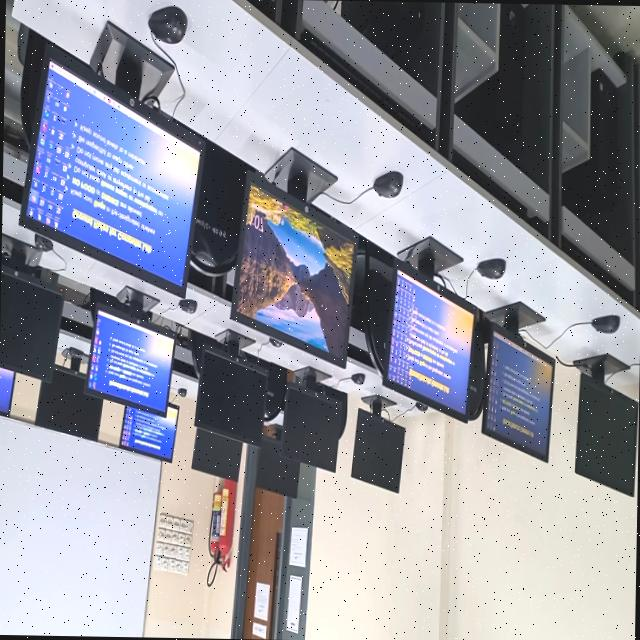Chair: (190, 141, 247, 276), (363, 241, 394, 374), (20, 29, 48, 144), (465, 314, 484, 419), (263, 362, 287, 423), (18, 24, 25, 60)
Cpu: (562, 70, 634, 262), (459, 3, 523, 147), (341, 0, 432, 86)
Fire Extinguisher: (207, 481, 237, 587), (219, 488, 228, 536)
Monitor: (24, 56, 200, 288), (234, 186, 353, 354), (387, 267, 476, 420), (86, 302, 175, 416), (481, 324, 553, 461), (194, 330, 267, 446), (575, 375, 638, 495), (0, 264, 63, 381), (280, 367, 346, 472), (35, 358, 102, 440), (351, 395, 404, 493), (119, 404, 179, 462), (191, 427, 242, 481), (255, 438, 300, 498), (0, 368, 14, 414)
Mouse: (148, 6, 187, 44), (372, 171, 403, 198), (476, 258, 505, 279), (591, 315, 619, 333), (34, 234, 52, 252), (178, 300, 197, 314), (351, 373, 364, 385), (269, 337, 282, 347), (415, 402, 428, 412), (177, 388, 186, 397)
